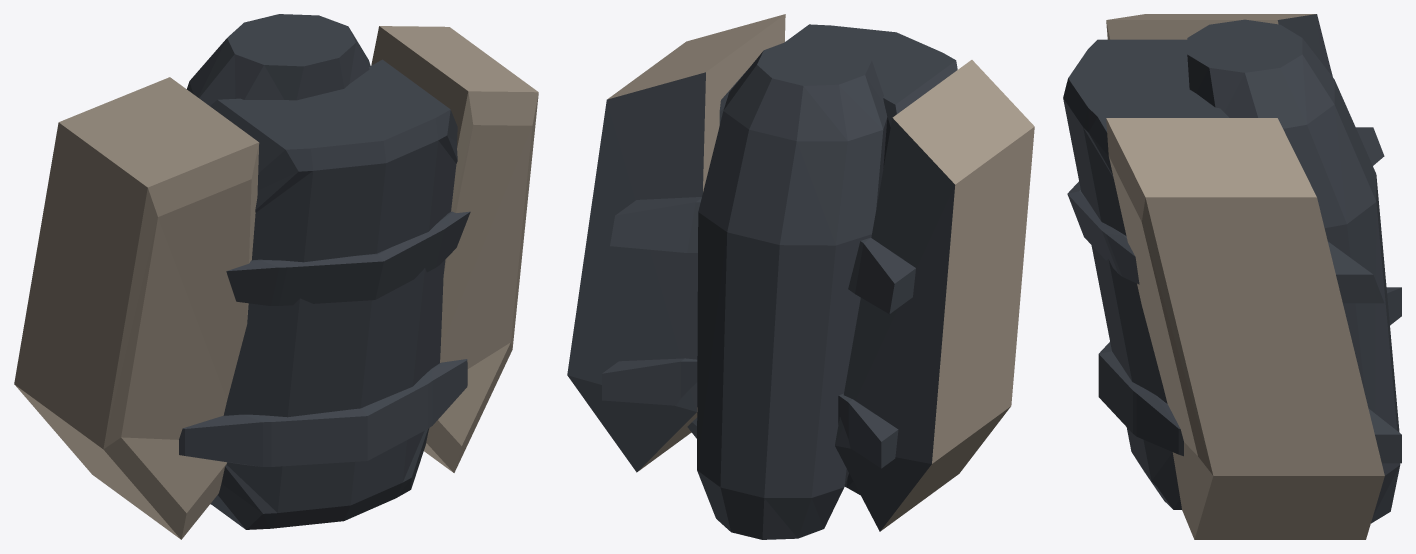
Rendered from thigh_heavy.glb.
3 renders of one model, left to right at view 1: azimuth 30°, elevation 25°; view 2: azimuth 150°, elevation 25°; view 3: azimuth 270°, elevation 25°, orthographic. The views are drawn at different scales.
Visible parts, largest first — view 1: thigh_heavy; view 2: thigh_heavy; view 3: thigh_heavy.
Boxes of the visible parts, x1,y1,x2,y2 form: thigh_heavy: (14, 14, 538, 539); thigh_heavy: (567, 14, 1034, 539); thigh_heavy: (1063, 14, 1401, 539).
Bounding box in the file's own units: 0.9 × 1 × 0.6717.
